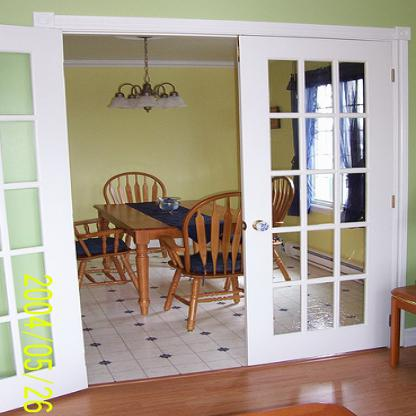chair: (156, 190, 244, 330), (72, 216, 139, 299), (101, 170, 167, 206), (389, 278, 415, 368), (272, 175, 294, 281)
diningtable: (92, 196, 242, 315)
